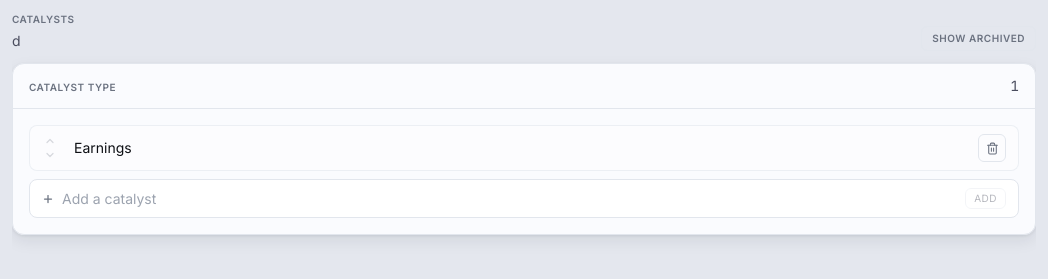
Test case: VocabularyEditor — the archived-collision message surfaces (build B renderer pin) › (6) a rejected rename shows the repo message through the existing pipe and keeps the input open
Note: Load, open the inline rename, commit a colliding name.
Step 1. Click the button "Earnings" → {"x": 103, "y": 148}, box [66,134,970,162]
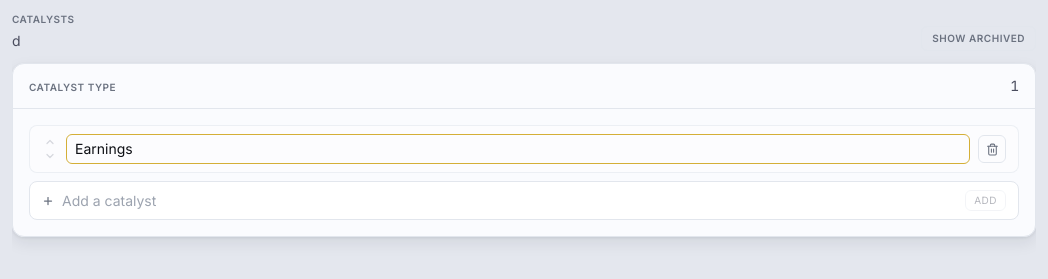
Step 2. Replace the text in the field showing "Earnings" with "FDA approval" → {"x": 518, "y": 149}, box [66,134,970,164]
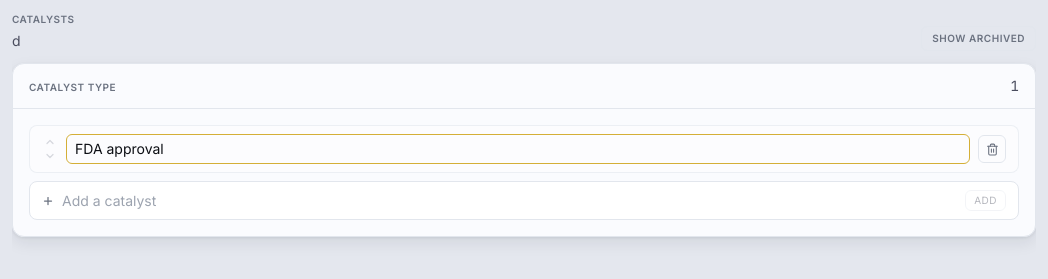
Step 3. Press Enter in the field showing "Earnings", box [66,134,970,164]
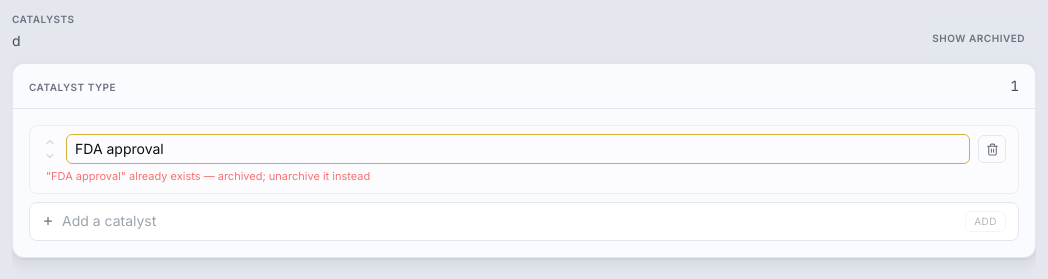
Expected: the text "\"FDA approval\" already exists — archived; unarchive it instead" is shown, [46,169,370,183]
